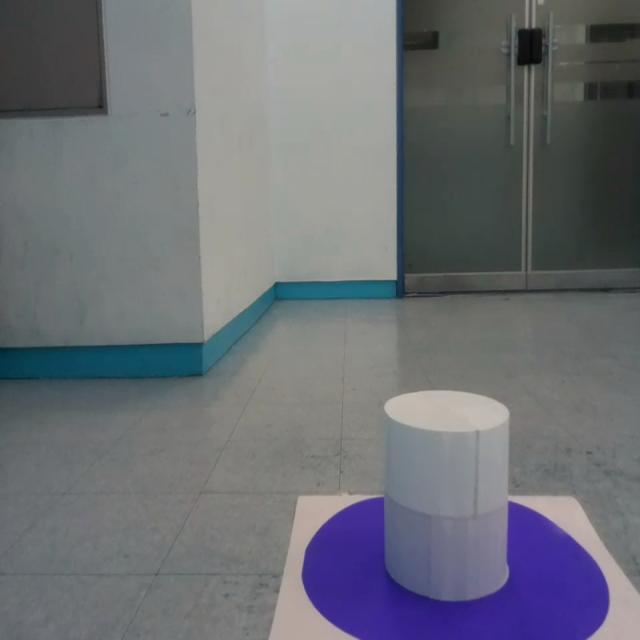cylinder: (381, 390, 511, 604)
